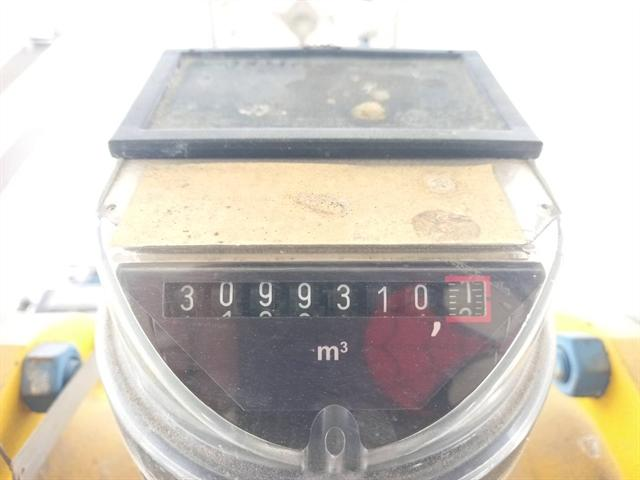analog_dial: (159, 273, 494, 335)
